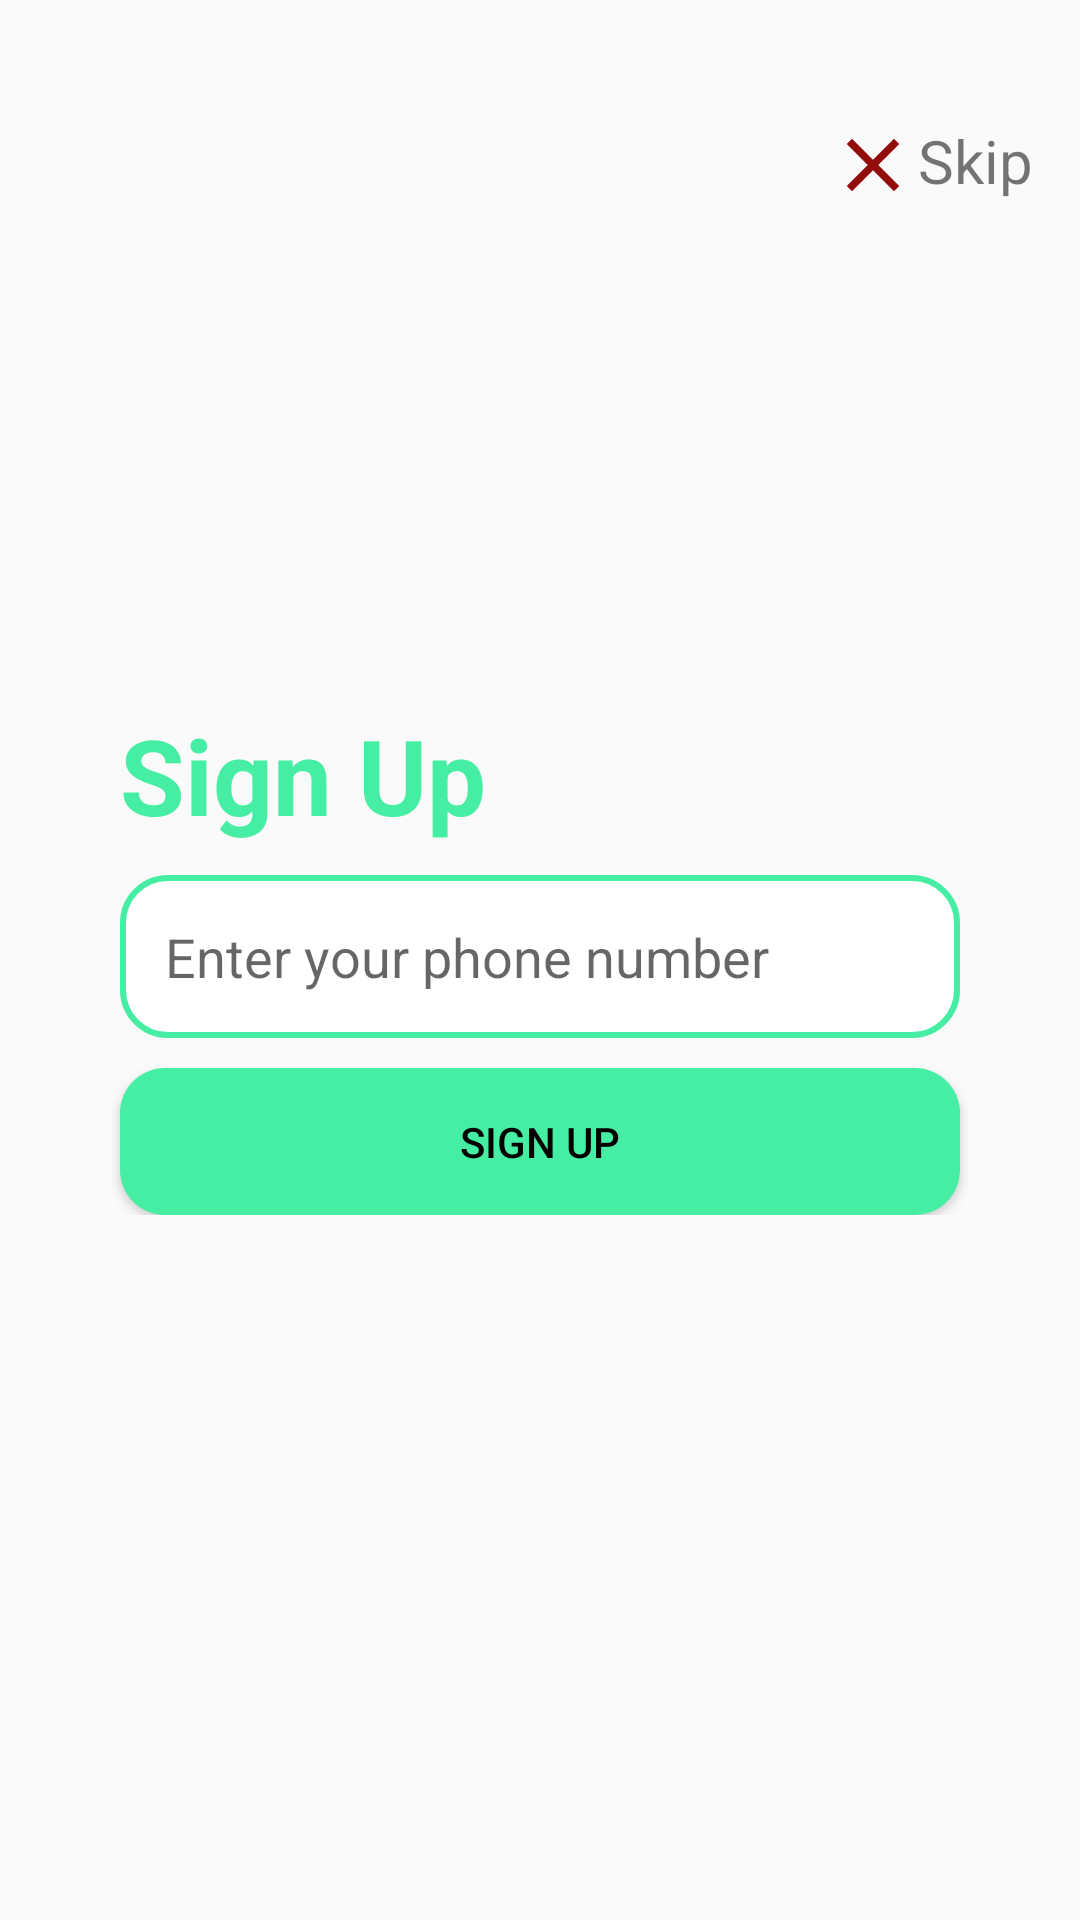

Icon click points for this 1080*1920 phone screenshot, format point (x, y):
clear: point (873, 165)
